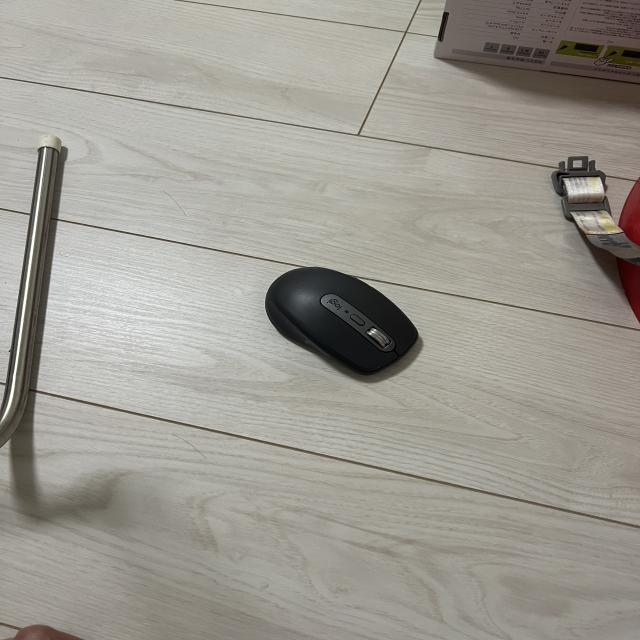mouse: (258, 267, 425, 376)
